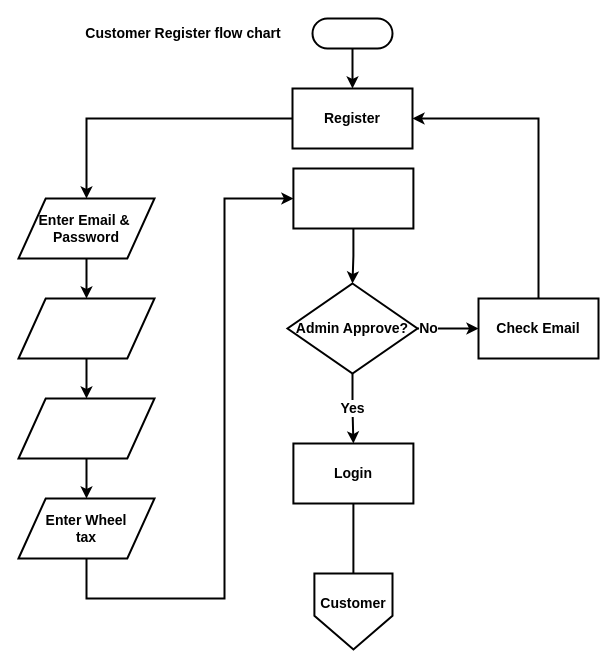
The diagram is 616 pixels wide and 667 high, and some of its shapes have lost their labels. The shapes that lost their labels are listed below. From the top down, each one's centre as x and y in pixels, then its label:
point (352, 33): Start
point (353, 198): Request for Apporval
point (86, 328): Enter Driver license
point (86, 428): Enter Car license
